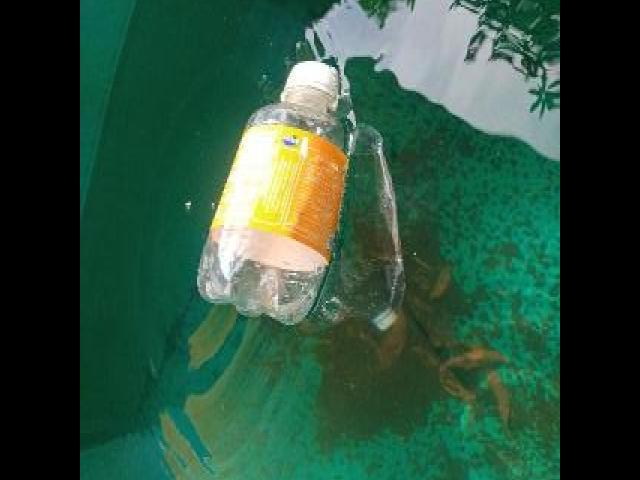Bottle: (192, 48, 358, 330)
